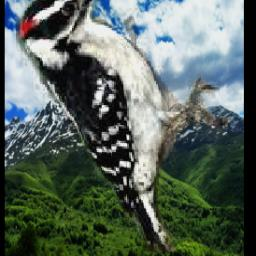Woodpecker: (17, 0, 231, 252)
